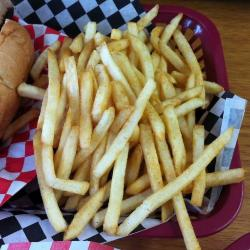fries: (42, 24, 207, 213)
hotdog: (1, 18, 33, 164)
